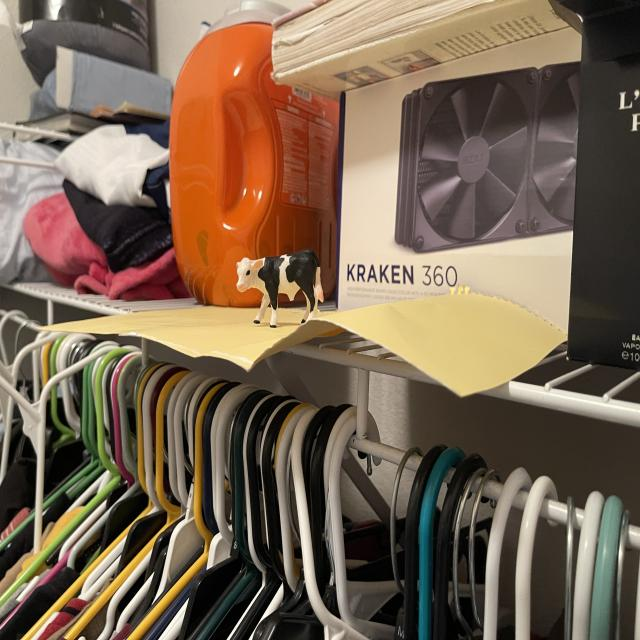cow: (233, 248, 327, 331)
